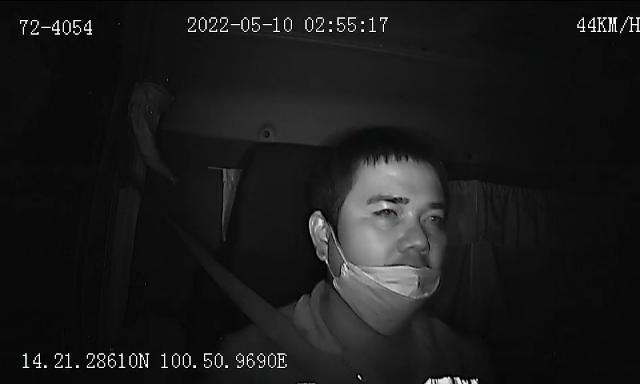SafeDriving: (367, 199, 406, 223), (418, 204, 450, 230)
Seatbelt: (206, 258, 308, 348)
